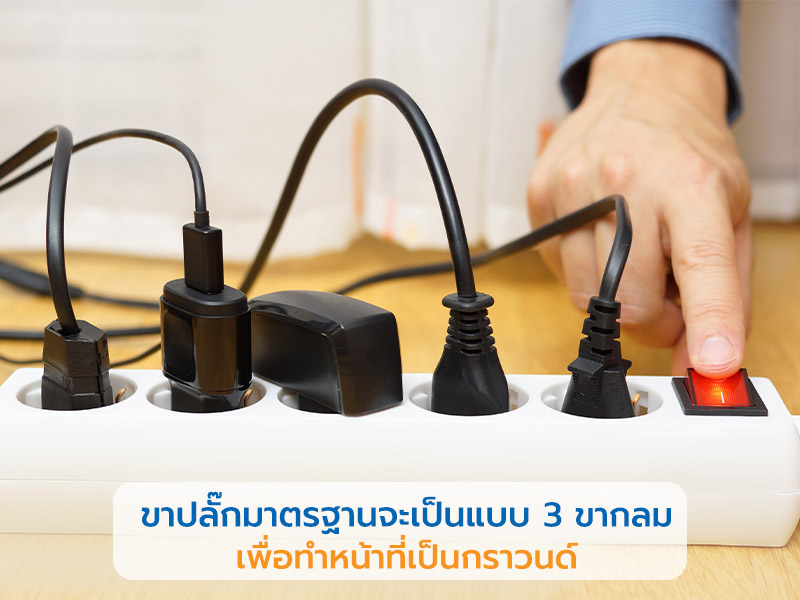Three_eye_plug: (1, 335, 799, 551)
